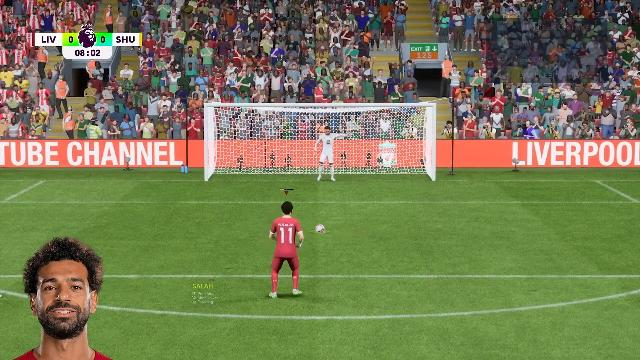circle: (310, 231, 332, 234)
football: (314, 224, 326, 233)
goal-bottom-left: (210, 143, 288, 181)
goal-bottom-right: (359, 142, 433, 182)
goal-middle-down: (289, 142, 359, 182)
goal-middle-up: (289, 106, 359, 142)
goal-top-left: (210, 106, 288, 142)
goal-top-right: (359, 107, 433, 141)
goalkeeper: (310, 127, 340, 183)
player: (266, 199, 306, 299)
